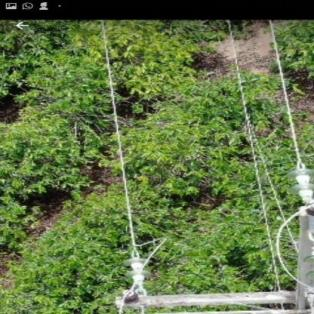Poste: (268, 188, 313, 314)
